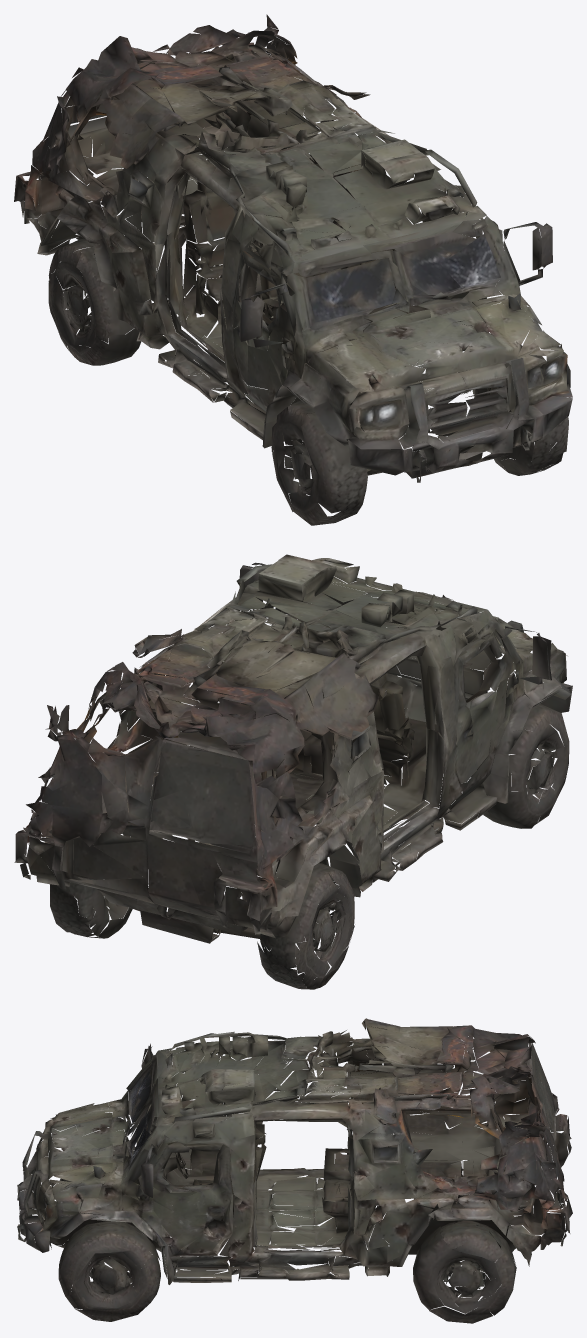
The model's file is burned-armored-van-v1.glb.
3 renders of one model, top to bottom at view 1: azimuth 30°, elevation 25°; view 2: azimuth 150°, elevation 25°; view 3: azimuth 270°, elevation 25°, orthographic. The views are drawn at different scales.
Visible parts, largest first — view 1: burned-armored-van; view 2: burned-armored-van; view 3: burned-armored-van.
Boxes of the visible parts, bbox=[...] form: burned-armored-van: bbox=[14, 14, 572, 525]; burned-armored-van: bbox=[14, 554, 572, 989]; burned-armored-van: bbox=[17, 1018, 572, 1323].
Bounding box in the file's own units: 3.04 × 2.63 × 5.84.
Materials: 1 (1 with a texture image).
